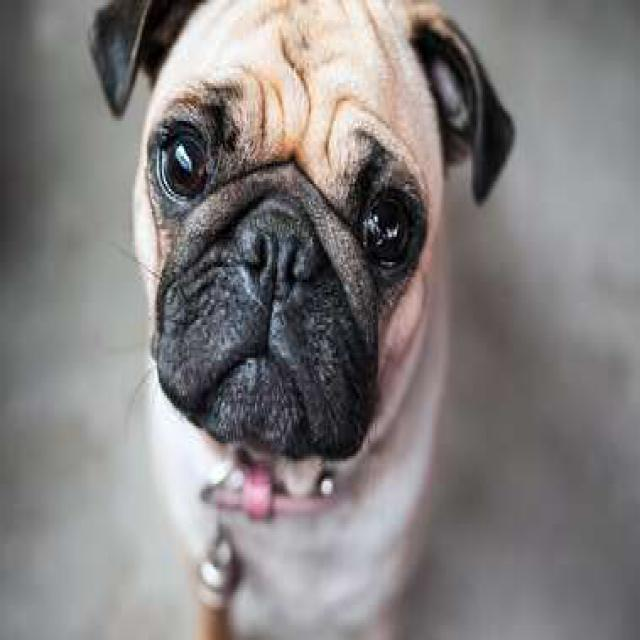eye: (357, 187, 419, 275), (155, 124, 212, 208)
